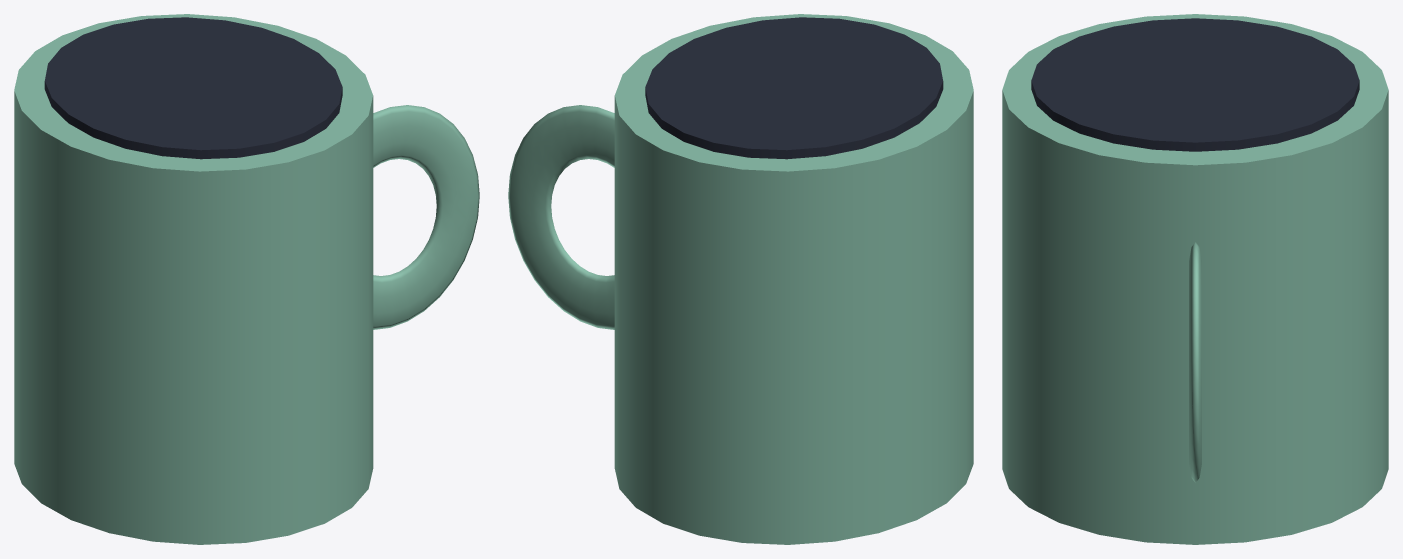
The model's file is mug.glb.
The picture shows the model from 3 angles, left to right: view 1: azimuth 30°, elevation 25°; view 2: azimuth 150°, elevation 25°; view 3: azimuth 270°, elevation 25°; orthographic projection.
Visible parts, largest first — view 1: mug; view 2: mug; view 3: mug.
Boxes of the visible parts, x1=… form: mug: x1=14, y1=14, x2=479, y2=544; mug: x1=508, y1=14, x2=973, y2=544; mug: x1=1002, y1=14, x2=1388, y2=544.
Bounding box in the file's own units: 12 × 10 × 9.
